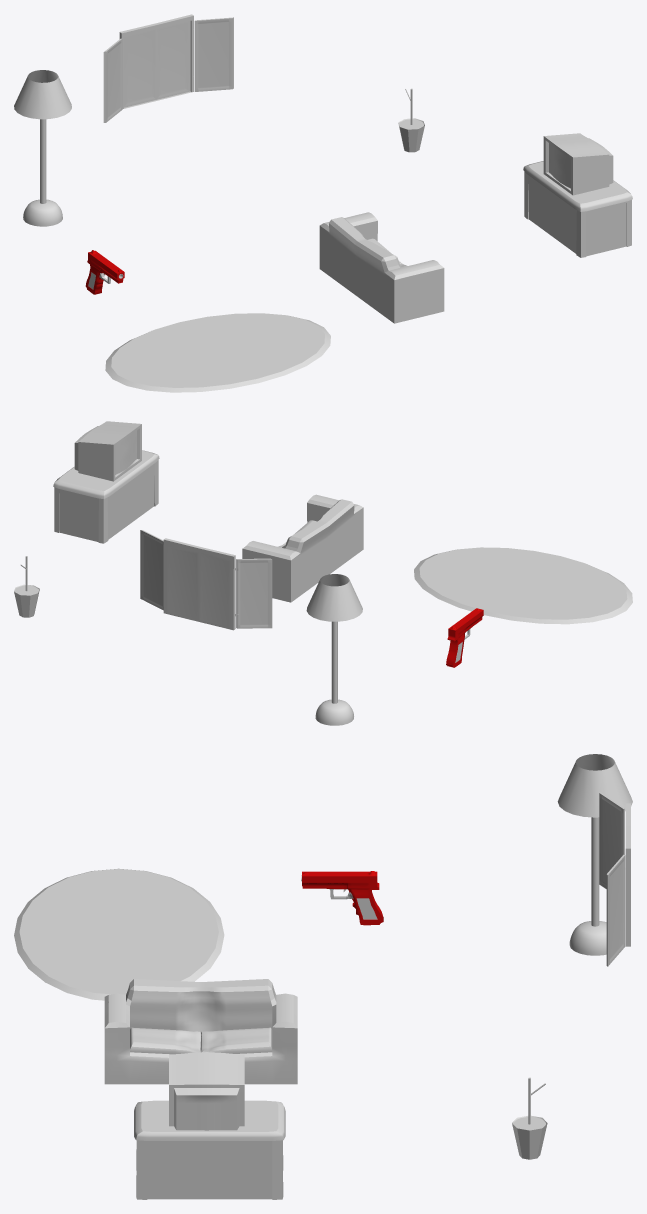
File: ignacio_listos.fbx
3 views of the same model, one above another, from view 1: azimuth 30°, elevation 25°; view 2: azimuth 150°, elevation 25°; view 3: azimuth 270°, elevation 25° (orthographic). The views are drawn at different scales.
Parts seen in each view (by area): view 1: centro_alfombra, sofa_deformado, base_tv, ventana_Madera, ventana_base_cristales, tv_armazon, ventana_base_madera, lampara_tela, alfombra_borde, lampara_base, tv_pantalla, pistola_supeior (+1 smaller); view 2: centro_alfombra, sofa_deformado, base_tv, ventana_Madera, ventana_base_cristales, ventana_base_madera, tv_armazon, lampara_tela, alfombra_borde, lampara_base, tv_pantalla, pistola_supeior (+1 smaller); view 3: centro_alfombra, sofa_deformado, base_tv, tv_armazon, ventana_Madera, lampara_tela, lampara_base, alfombra_borde, pistola_supeior, maceta_base, ventana_base_madera, pistola_mango.
Part boxes in pixels (x1=…): centro_alfombra: x1=111, y1=313, x2=324, y2=387; sofa_deformado: x1=319, y1=212, x2=444, y2=323; base_tv: x1=523, y1=161, x2=632, y2=257; ventana_Madera: x1=103, y1=17, x2=233, y2=122; ventana_base_cristales: x1=128, y1=25, x2=184, y2=101; tv_armazon: x1=543, y1=133, x2=613, y2=195; ventana_base_madera: x1=119, y1=14, x2=193, y2=108; lampara_tela: x1=14, y1=70, x2=71, y2=119; alfombra_borde: x1=105, y1=316, x2=330, y2=392; lampara_base: x1=23, y1=119, x2=62, y2=226; tv_pantalla: x1=549, y1=143, x2=570, y2=188; pistola_supeior: x1=87, y1=250, x2=124, y2=283; centro_alfombra: x1=419, y1=547, x2=627, y2=619; sofa_deformado: x1=242, y1=494, x2=363, y2=602; base_tv: x1=53, y1=450, x2=159, y2=543; ventana_Madera: x1=140, y1=530, x2=272, y2=628; ventana_base_cristales: x1=171, y1=550, x2=226, y2=623; ventana_base_madera: x1=163, y1=538, x2=235, y2=630; tv_armazon: x1=74, y1=421, x2=141, y2=481; lampara_tela: x1=306, y1=574, x2=362, y2=621; alfombra_borde: x1=414, y1=550, x2=632, y2=624; lampara_base: x1=315, y1=621, x2=353, y2=725; tv_pantalla: x1=115, y1=431, x2=136, y2=474; pistola_supeior: x1=447, y1=608, x2=483, y2=641; centro_alfombra: x1=19, y1=869, x2=218, y2=994; sofa_deformado: x1=104, y1=979, x2=297, y2=1084; base_tv: x1=134, y1=1100, x2=285, y2=1199; tv_armazon: x1=169, y1=1052, x2=244, y2=1130; ventana_Madera: x1=599, y1=792, x2=625, y2=966; lampara_tela: x1=557, y1=754, x2=632, y2=817; lampara_base: x1=569, y1=817, x2=606, y2=955; alfombra_borde: x1=14, y1=868, x2=224, y2=1000; pistola_supeior: x1=302, y1=871, x2=379, y2=889; maceta_base: x1=512, y1=1115, x2=547, y2=1159; ventana_base_madera: x1=625, y1=803, x2=630, y2=946; pistola_mango: x1=348, y1=889, x2=383, y2=925.
Bounding box in the file's own units: 713 × 206 × 562.
